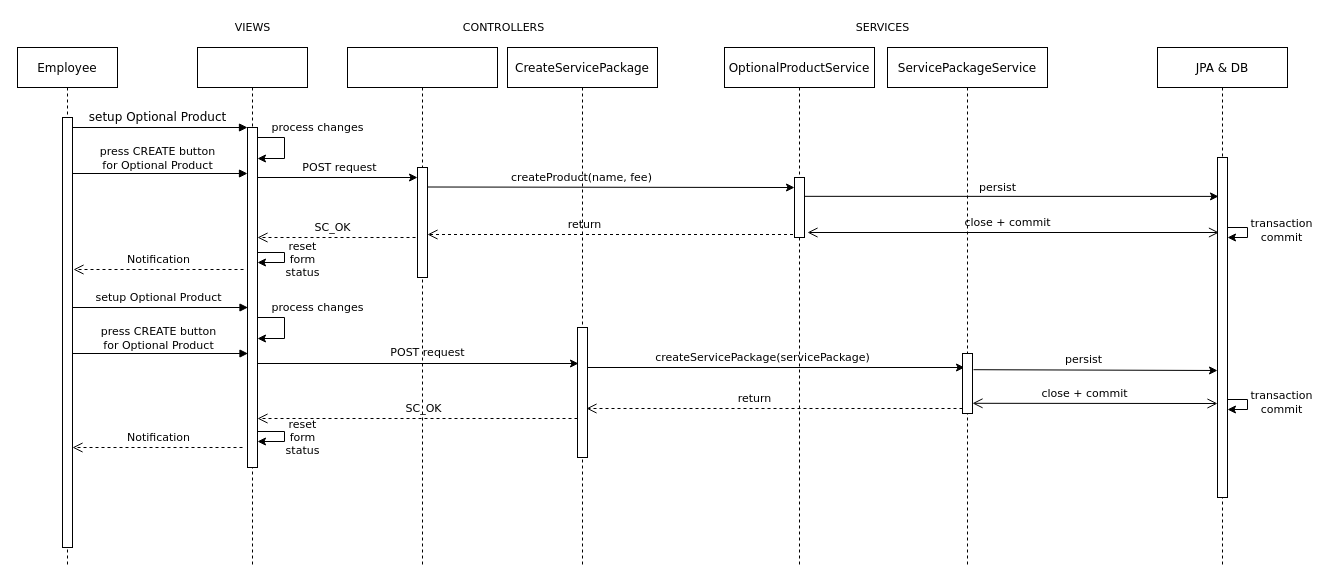
This 1339x585 diagram has some shape labels left out. Here are the shapes that lost their labels. From the top down, the box of each, then its label:
(196, 46, 308, 568): : Home Page
(346, 46, 498, 568): CreateOptionalProduct
